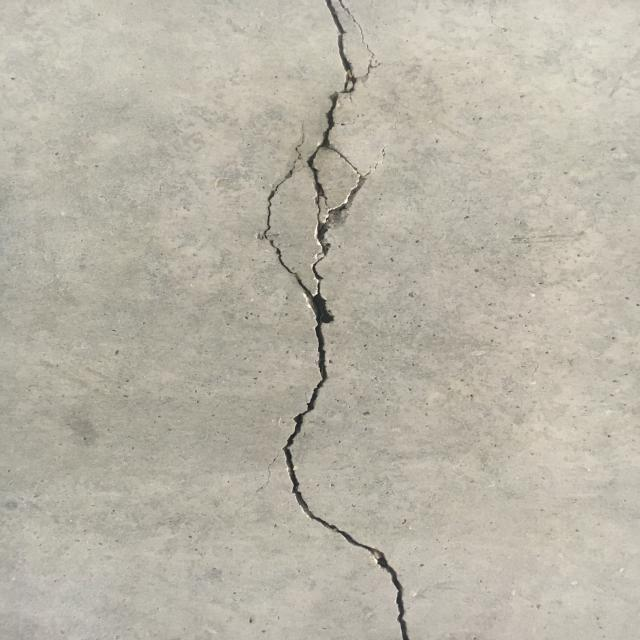Rachadura: (259, 0, 412, 640)
